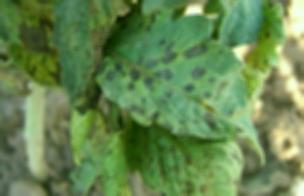Tomato leaf bacterial spot: (82, 27, 269, 163), (106, 89, 250, 196), (53, 0, 143, 112)
